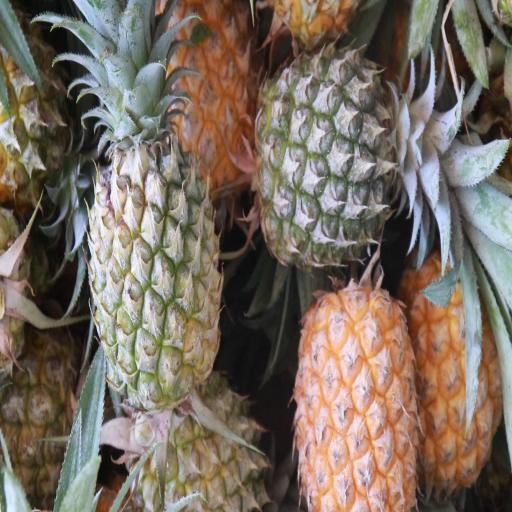Pineapple - v8 v1: (287, 285, 426, 512), (403, 256, 511, 512), (143, 0, 259, 200)
